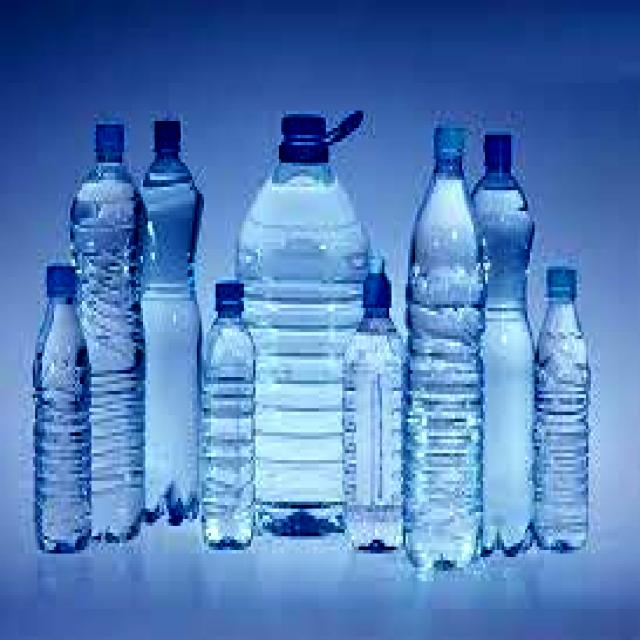Plastic: (231, 107, 374, 542), (404, 126, 485, 579), (67, 118, 150, 549), (470, 130, 540, 556), (137, 110, 206, 525), (340, 256, 411, 551), (31, 260, 94, 556), (534, 261, 592, 552)
